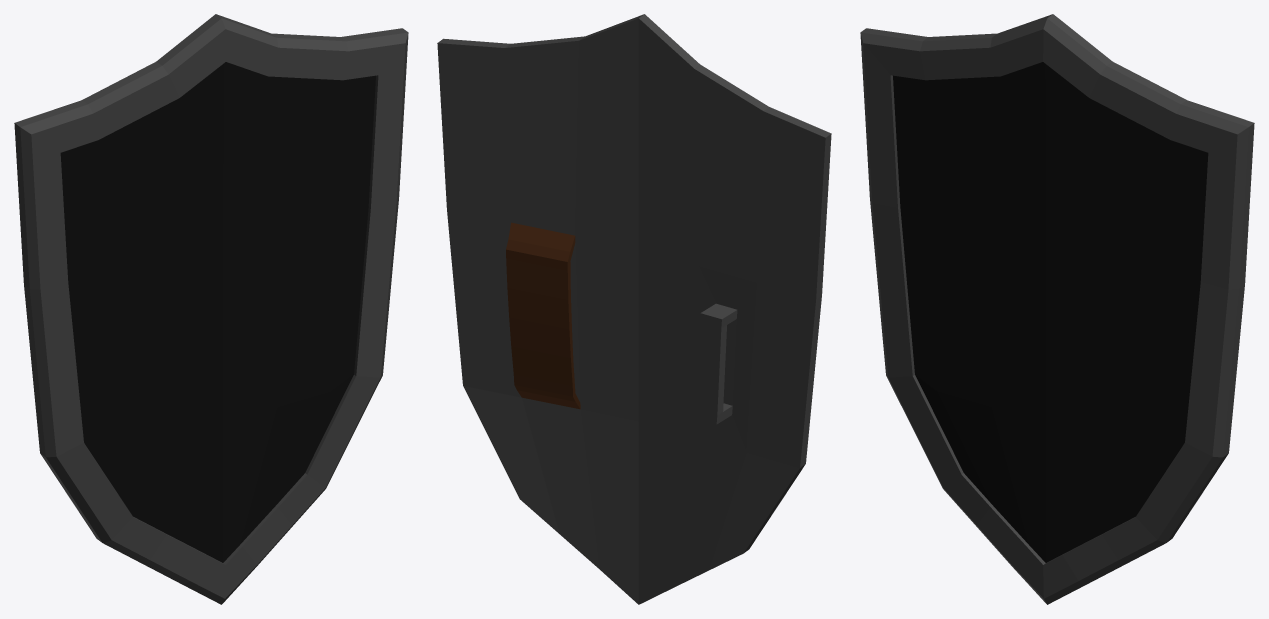
File: Shield_FBX.fbx
3 views of the same model, side by side, from view 1: azimuth 30°, elevation 25°; view 2: azimuth 150°, elevation 25°; view 3: azimuth 330°, elevation 25° (orthographic).
Parts seen in each view (by area): view 1: Shield; view 2: Shield; view 3: Shield.
Part boxes in pixels (x1,y1,x2,y2): Shield: (14, 14, 408, 604); Shield: (437, 14, 831, 604); Shield: (860, 14, 1254, 604).
Bounding box in the file's own units: 55.66 × 80.37 × 6.84.
